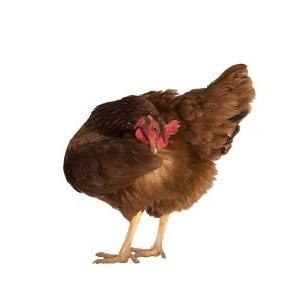AbNormal: (60, 66, 255, 270)
